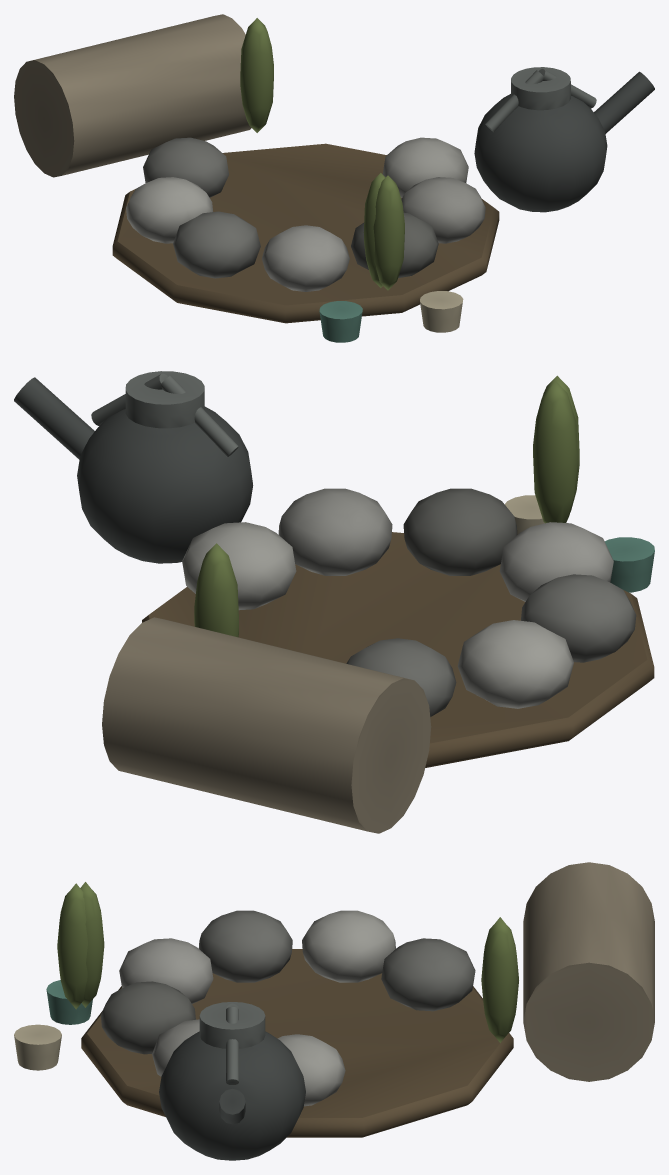
Rendered from tea_hearth_c.glb.
3 renders of one model, top to bottom at view 1: azimuth 30°, elevation 25°; view 2: azimuth 150°, elevation 25°; view 3: azimuth 270°, elevation 25°, orthographic. The views are drawn at different scales.
Parts seen in each view (by area): view 1: Surface; view 2: Surface; view 3: Surface.
Part boxes in pixels (x1,y1,x2,y2): Surface: [14, 14, 654, 342]; Surface: [14, 371, 654, 833]; Surface: [14, 862, 654, 1160].
Bounding box in the file's own units: 2.8 × 0.8156 × 2.97.
